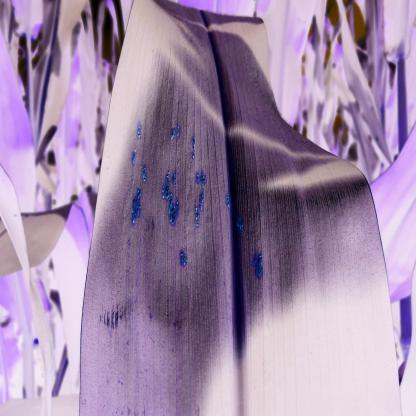Corn rust leaf: (88, 0, 407, 416)
